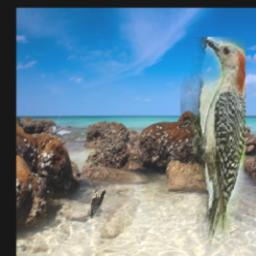Crow: (90, 191, 106, 219)
Woodpecker: (180, 37, 245, 250)
